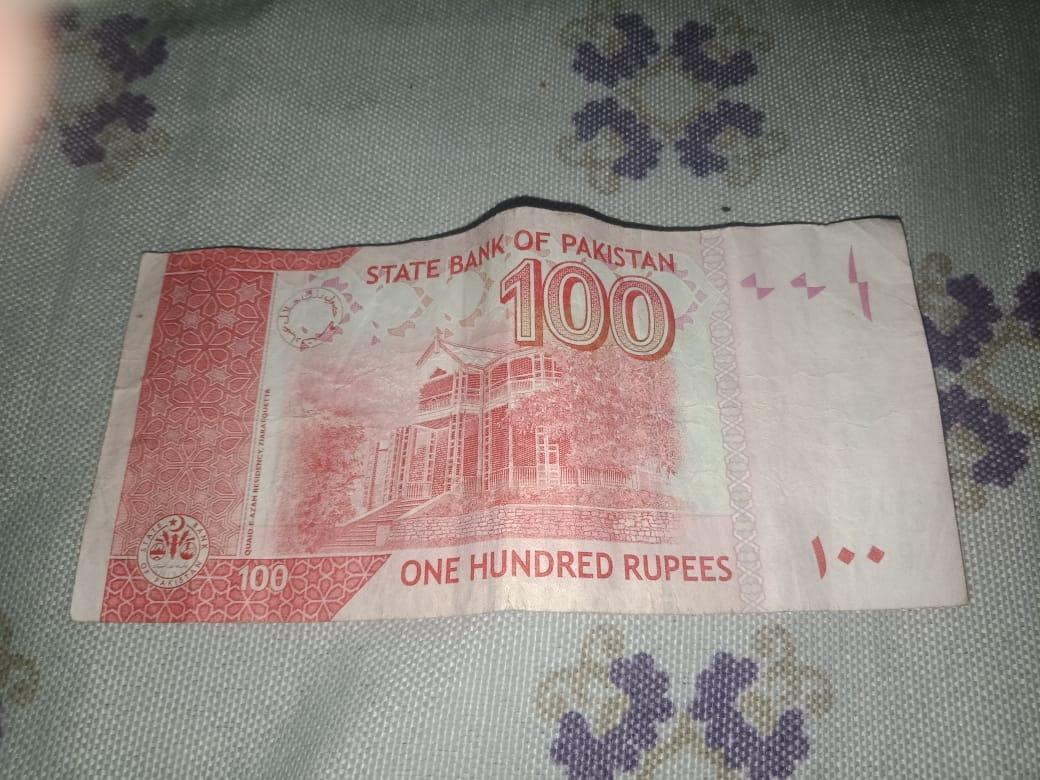100 rupee: (50, 184, 975, 662)
